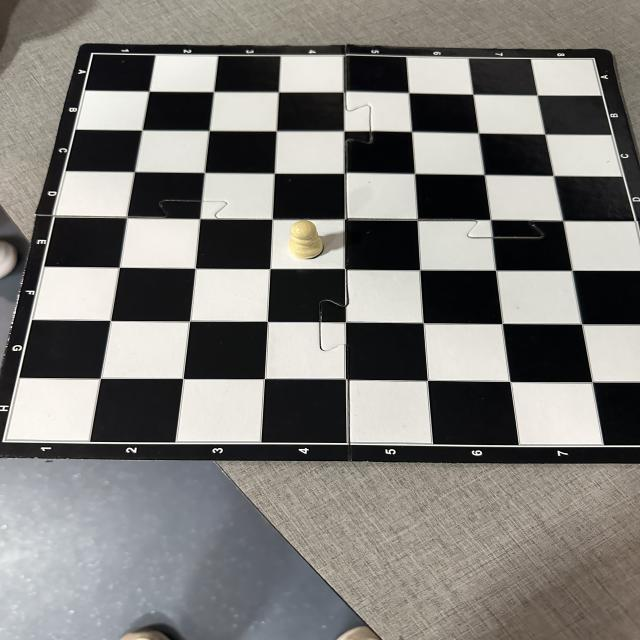White-Pawn: (288, 220, 324, 259)
